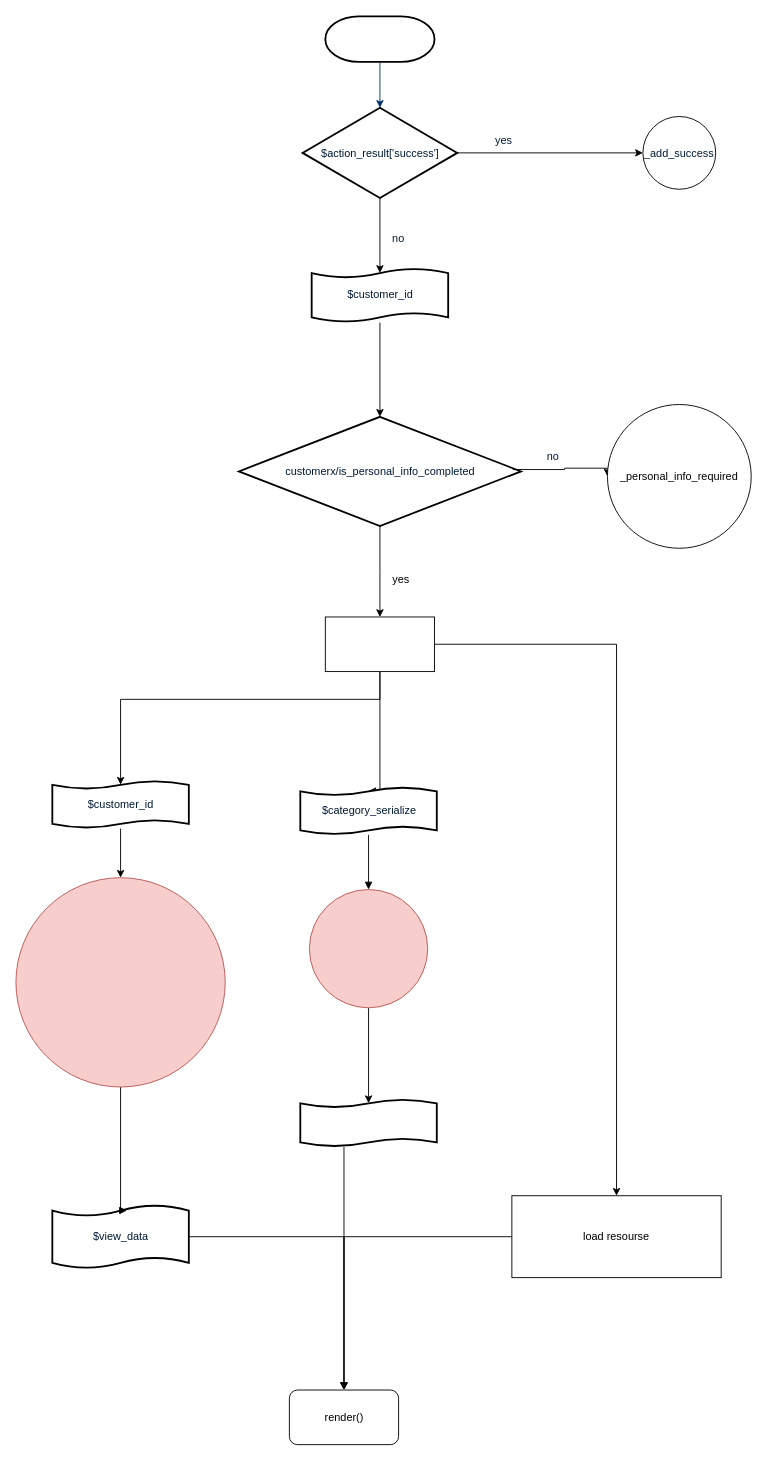
Some shapes in this 767 by 1461 pixel diagram are drawn without their labels. Each missing label, with the box of its shape:
$categorys: (299, 1097, 437, 1148)
_add_order: (324, 616, 435, 672)
categoryx/get_category: (308, 889, 428, 1008)
packagelib/get_add_order_base_data: (15, 877, 225, 1087)
WEB order/add: (324, 15, 435, 62)
